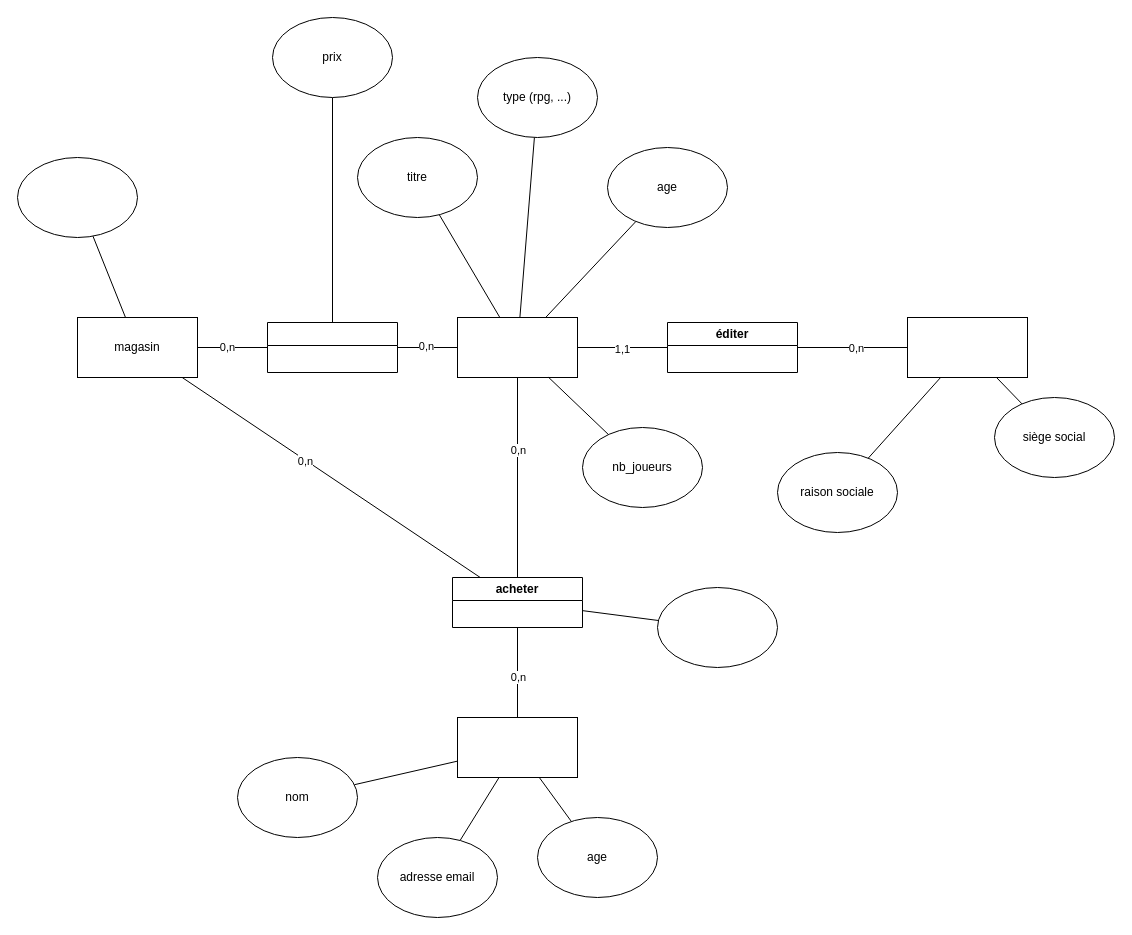
Some shapes in this 1132 by 935 pixel diagram are drawn without their labels. Here are the shapes that lost their labels. From the top down, the centre of each, then its label:
[77,197]: website
[332,347]: vendre
[517,347]: jeu de société
[967,347]: éditeur
[717,627]: date achat
[517,747]: client
